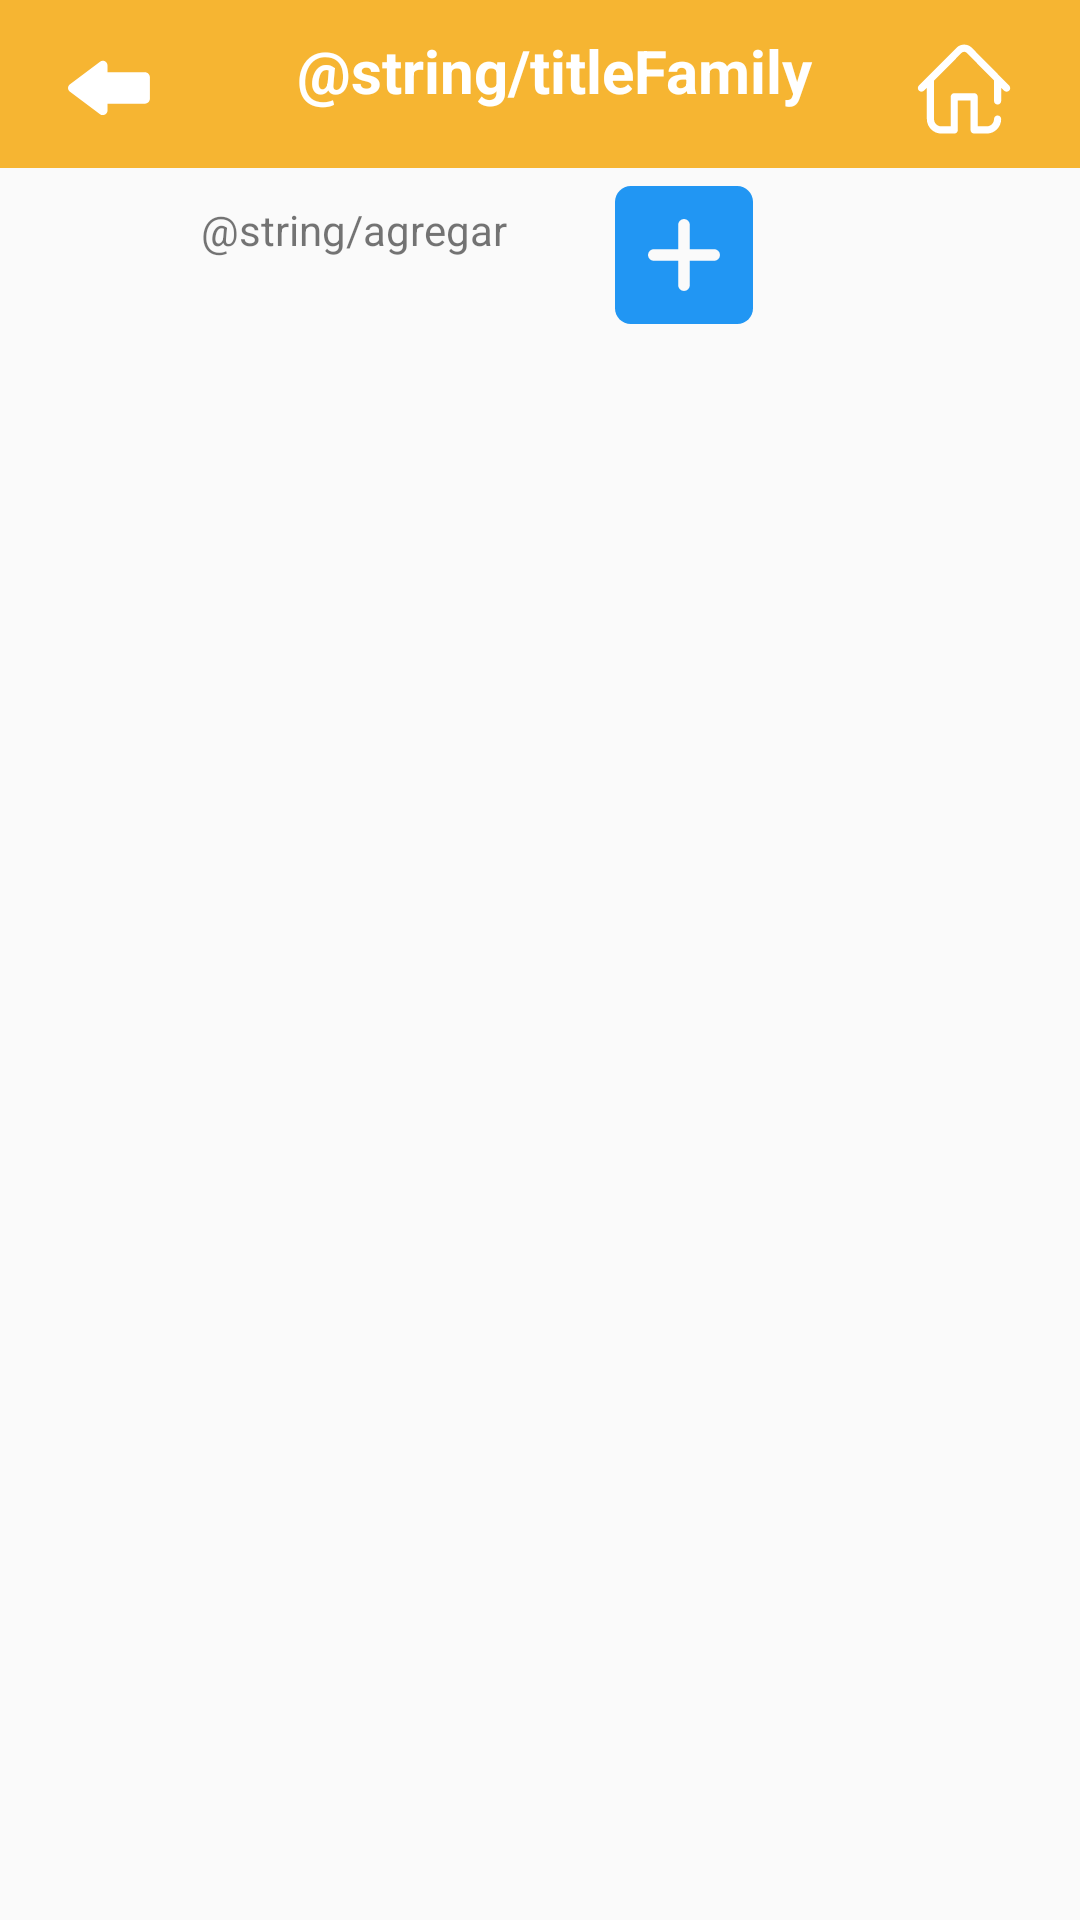

Named icons in this screenshot (1080 x 1920) and their centers, point (x, y):
flecha: point (109, 87)
mas: point (684, 255)
